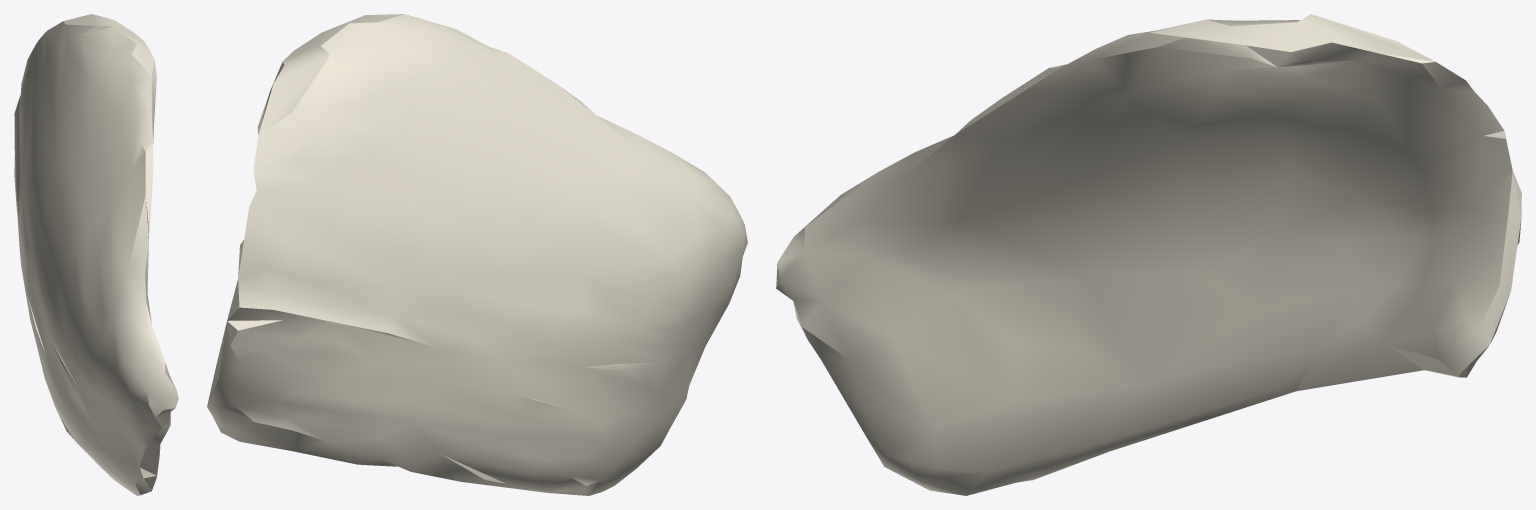
File: fma326796-r_mm1454m.glb
3 views of the same model, side by side, from view 1: azimuth 30°, elevation 25°; view 2: azimuth 150°, elevation 25°; view 3: azimuth 270°, elevation 25° (orthographic). The views are drawn at different scales.
Visible parts, largest first — view 1: FMA326796-R_MM1454M; view 2: FMA326796-R_MM1454M; view 3: FMA326796-R_MM1454M.
Boxes of the visible parts, x1=… form: FMA326796-R_MM1454M: x1=14, y1=14, x2=178, y2=495; FMA326796-R_MM1454M: x1=207, y1=14, x2=747, y2=495; FMA326796-R_MM1454M: x1=776, y1=14, x2=1521, y2=495.
Size of the model in its own units: 0.00263 by 0.00563 by 0.00701.
